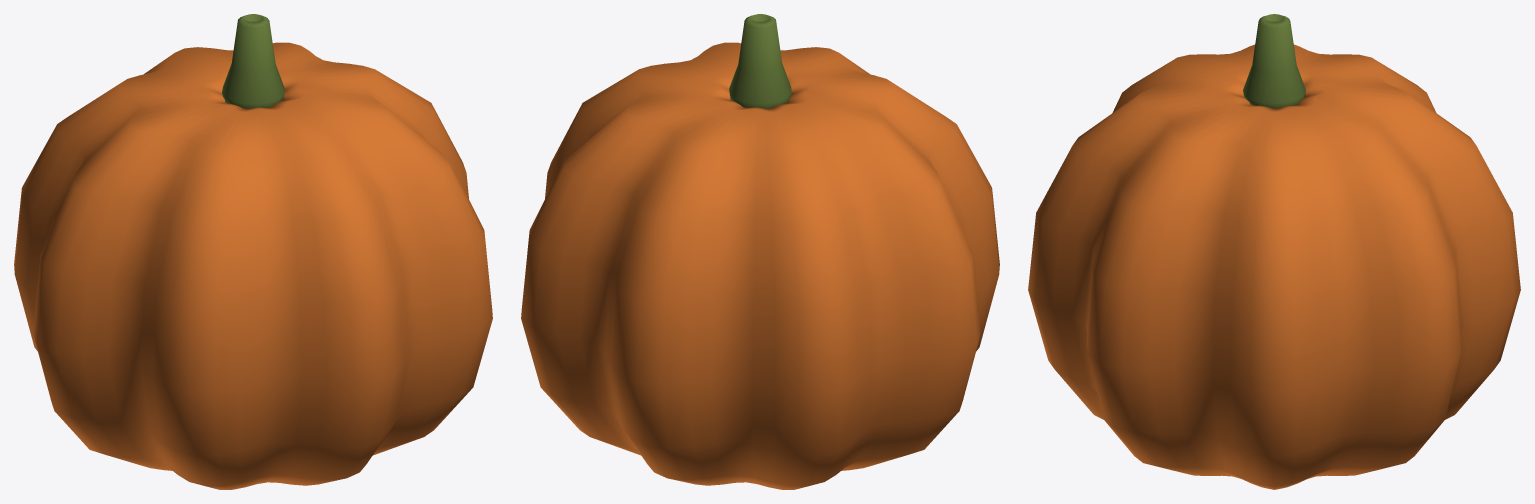
File: halloween-pumpkin.glb
3 views of the same model, side by side, from view 1: azimuth 30°, elevation 25°; view 2: azimuth 150°, elevation 25°; view 3: azimuth 270°, elevation 25° (orthographic).
Visible parts, largest first — view 1: Hollow ribbed shell with mold seam and flat foot, Socket fitted tapered stem; view 2: Hollow ribbed shell with mold seam and flat foot, Socket fitted tapered stem; view 3: Hollow ribbed shell with mold seam and flat foot, Socket fitted tapered stem.
Boxes of the visible parts, x1,y1,x2,y2 form: Hollow ribbed shell with mold seam and flat foot: (14,42,492,489); Socket fitted tapered stem: (222,14,284,108); Hollow ribbed shell with mold seam and flat foot: (521,42,999,489); Socket fitted tapered stem: (729,14,791,108); Hollow ribbed shell with mold seam and flat foot: (1028,44,1520,489); Socket fitted tapered stem: (1243,14,1305,108).
Bounding box in the file's own units: 1.34 × 1.24 × 1.33.
